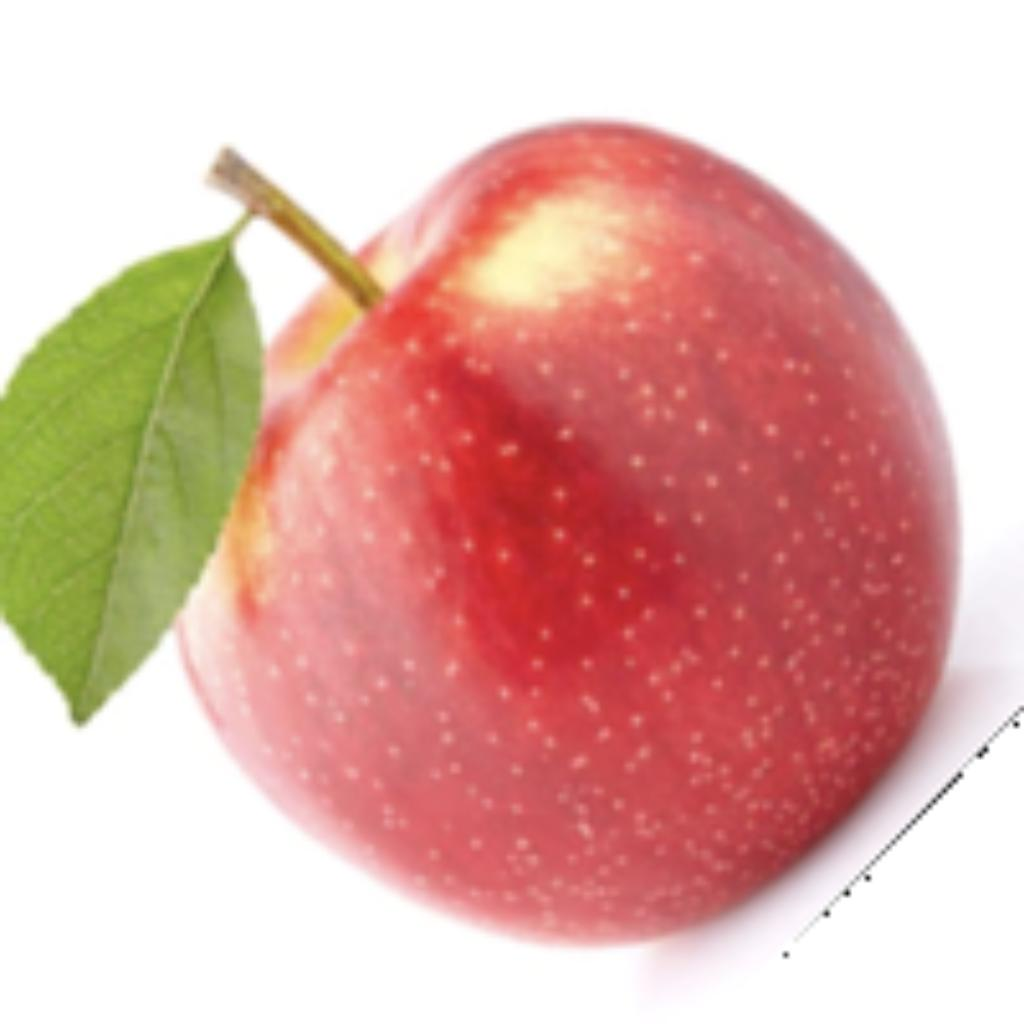apple: (0, 108, 1019, 993)
